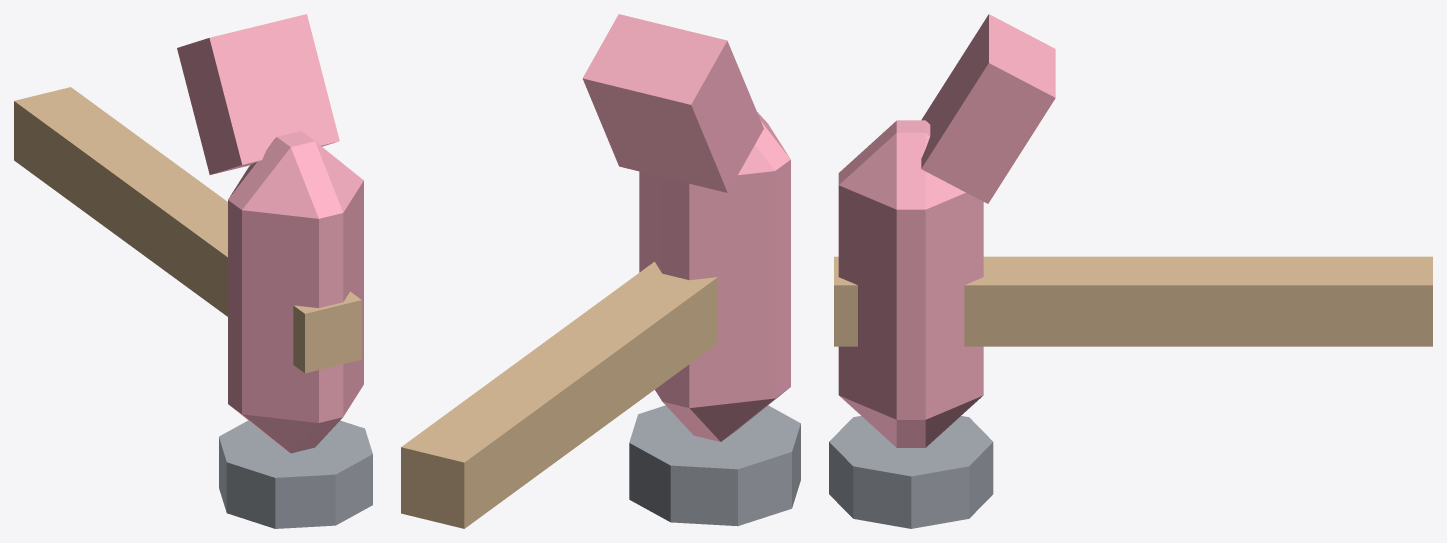
File: CleanACat_Prop_Hammer.fbx
3 renders of one model, left to right at view 1: azimuth 30°, elevation 25°; view 2: azimuth 150°, elevation 25°; view 3: azimuth 270°, elevation 25°, orthographic. The views are drawn at different scales.
Parts seen in each view (by area): view 1: CleanACat_Prop_Hammer; view 2: CleanACat_Prop_Hammer; view 3: CleanACat_Prop_Hammer.
Part boxes in pixels (bbox=[...]): CleanACat_Prop_Hammer: bbox=[14, 14, 372, 528]; CleanACat_Prop_Hammer: bbox=[401, 14, 800, 528]; CleanACat_Prop_Hammer: bbox=[829, 14, 1432, 528].
Size of the model in its own units: 0.2125 by 0.6508 by 0.7813.
Materials: 1 (1 with a texture image).
